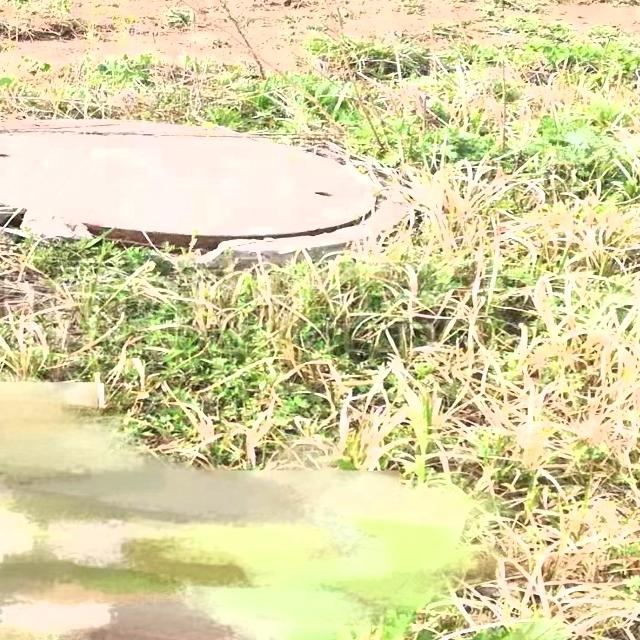circle: (0, 109, 444, 269)
